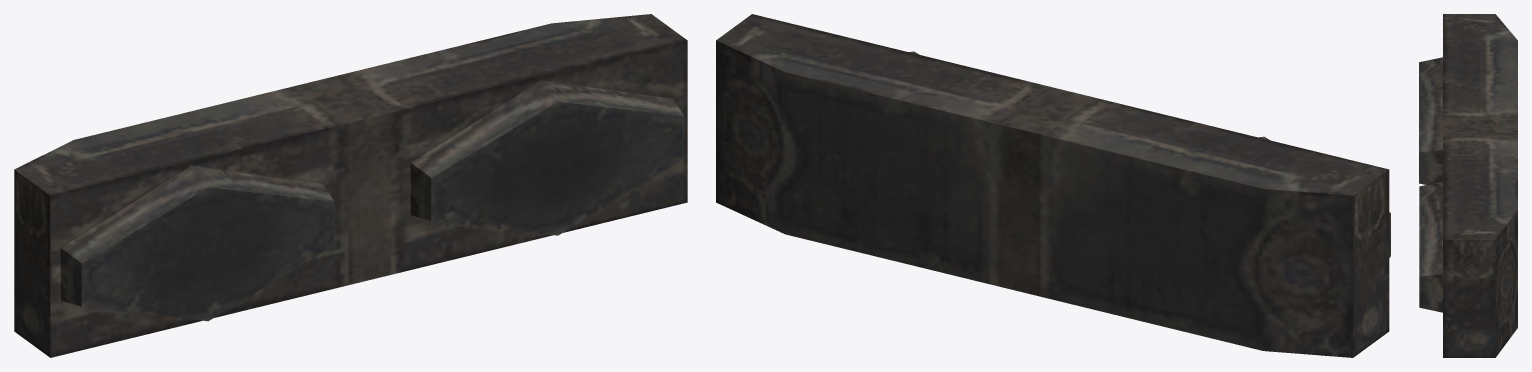
3 views of the same model, side by side, from view 1: azimuth 30°, elevation 25°; view 2: azimuth 150°, elevation 25°; view 3: azimuth 270°, elevation 25° (orthographic). The views are drawn at different scales.
Visible parts, largest first — view 1: set_0_group_0; view 2: set_0_group_0; view 3: set_0_group_0.
Part boxes in pixels (x1,y1,x2,y2): set_0_group_0: (14, 14, 687, 357); set_0_group_0: (716, 14, 1390, 357); set_0_group_0: (1419, 14, 1517, 357).
Bounding box in the file's own units: 0.5956 × 0.1449 × 0.11.
1 material, 1 textured.
